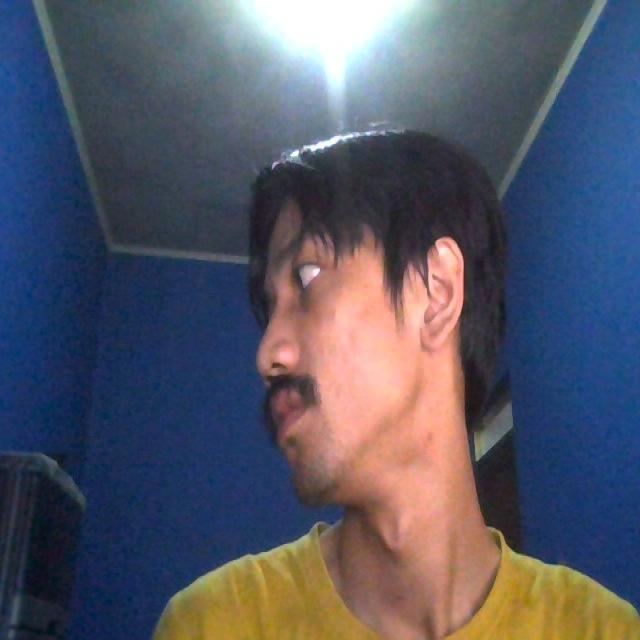Melihat kekanan: (222, 122, 518, 493)
